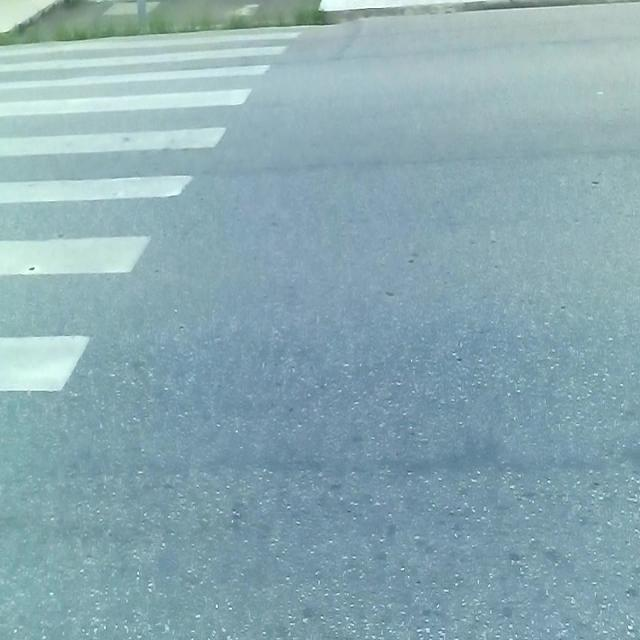crosswalk: (0, 25, 311, 550)
